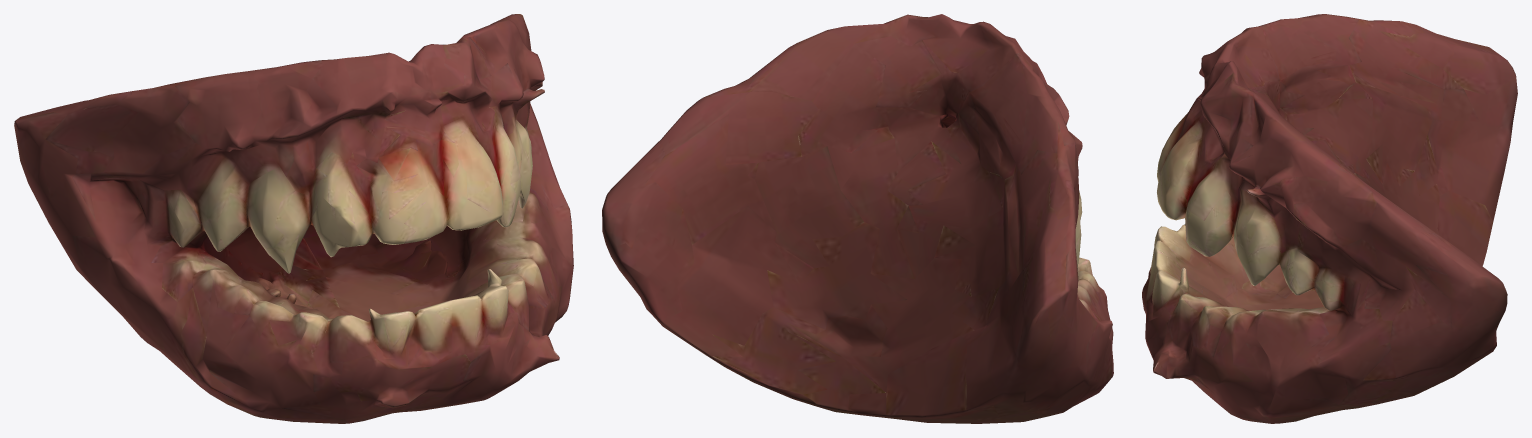
The model's file is teeth.glb.
3 views of the same model, side by side, from view 1: azimuth 30°, elevation 25°; view 2: azimuth 150°, elevation 25°; view 3: azimuth 270°, elevation 25° (orthographic). The views are drawn at different scales.
Visible parts, largest first — view 1: Mesh_0; view 2: Mesh_0; view 3: Mesh_0.
Boxes of the visible parts, bbox=[...] form: Mesh_0: bbox=[14, 14, 573, 423]; Mesh_0: bbox=[602, 14, 1113, 423]; Mesh_0: bbox=[1142, 14, 1517, 423].
Size of the model in its own units: 1.9 by 1.35 by 1.41.
1 material, 1 textured.
